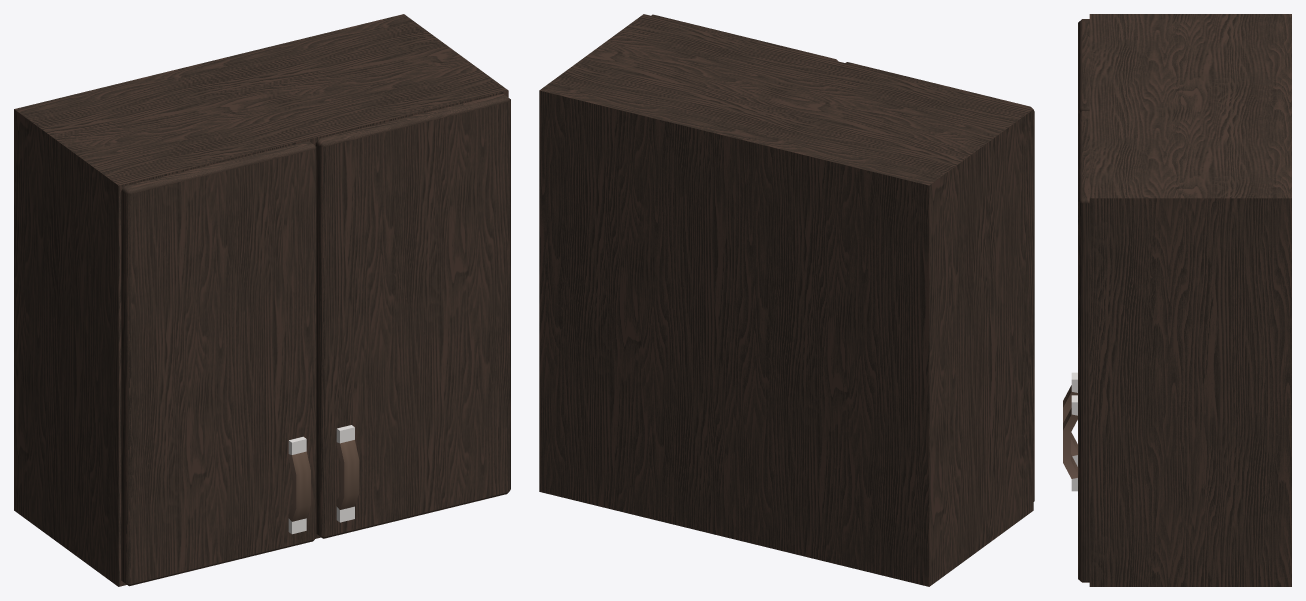
File: kitchen_019.fbx
3 views of the same model, side by side, from view 1: azimuth 30°, elevation 25°; view 2: azimuth 150°, elevation 25°; view 3: azimuth 270°, elevation 25° (orthographic). The views are drawn at different scales.
Parts seen in each view (by area): view 1: kitchen_019; view 2: kitchen_019; view 3: kitchen_019.
Boxes of the visible parts, x1,y1,x2,y2 form: kitchen_019: (14, 14, 510, 586); kitchen_019: (539, 14, 1034, 586); kitchen_019: (1063, 14, 1291, 586).
Bounding box in the file's own units: 107 × 56.4 × 106.
